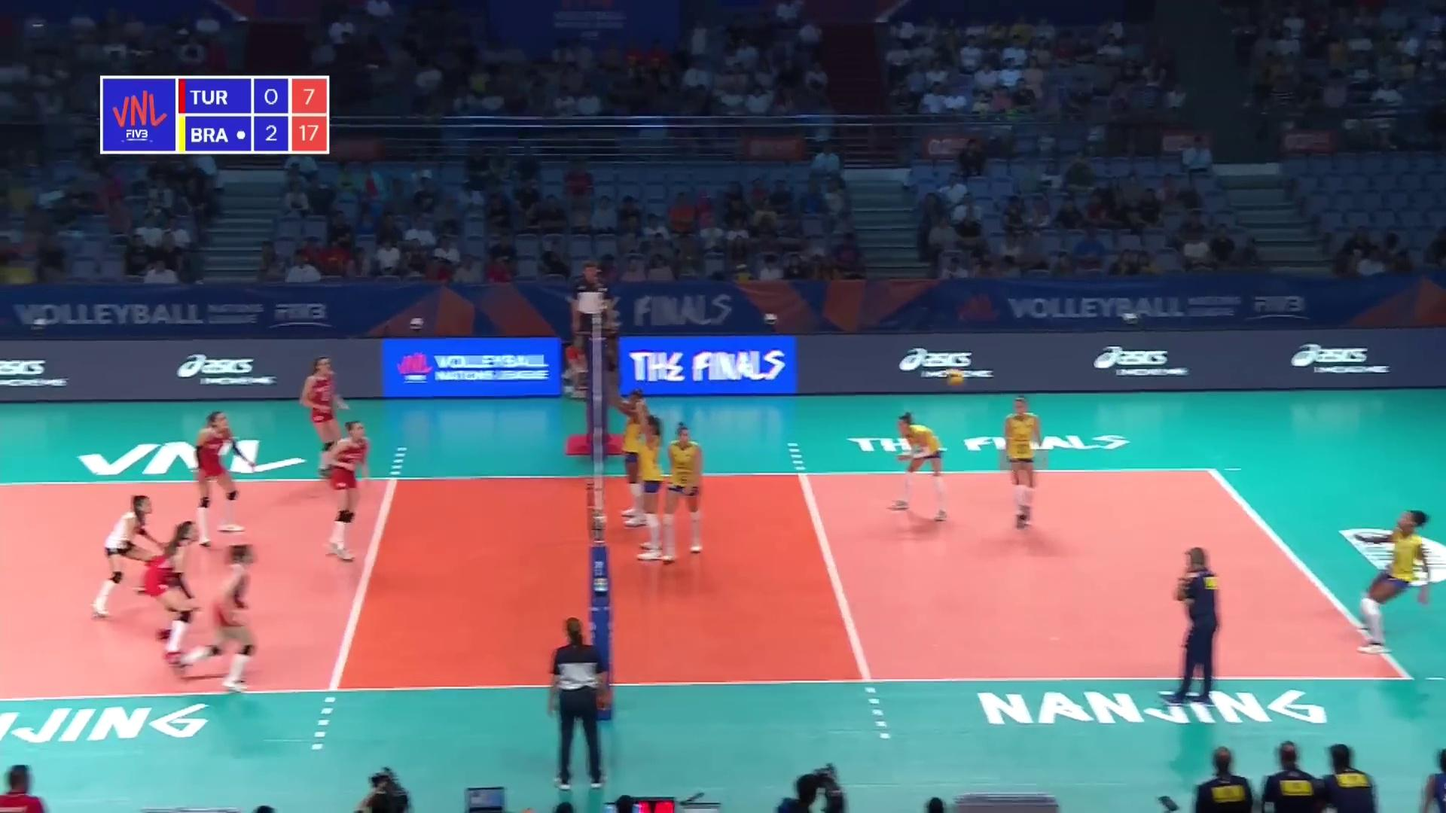player: (179, 546, 260, 692), (1354, 510, 1433, 651), (93, 494, 164, 623), (192, 412, 257, 541), (144, 523, 201, 663), (298, 357, 349, 488), (887, 414, 949, 518), (1002, 400, 1049, 532), (328, 421, 371, 562), (609, 382, 647, 528), (663, 423, 703, 561), (633, 400, 664, 560)
refree: (548, 617, 610, 792), (573, 263, 611, 377)
